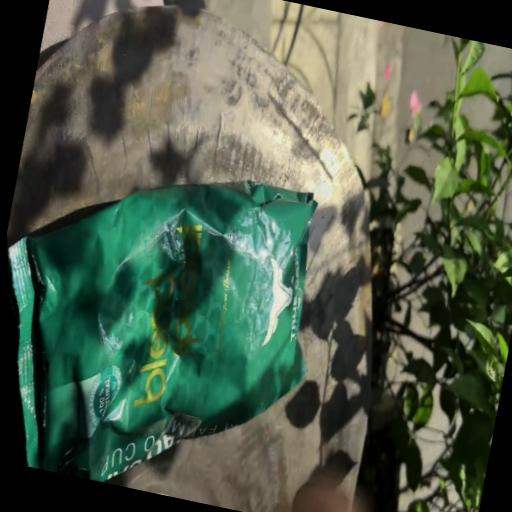cafe_xay: (8, 181, 316, 481)
